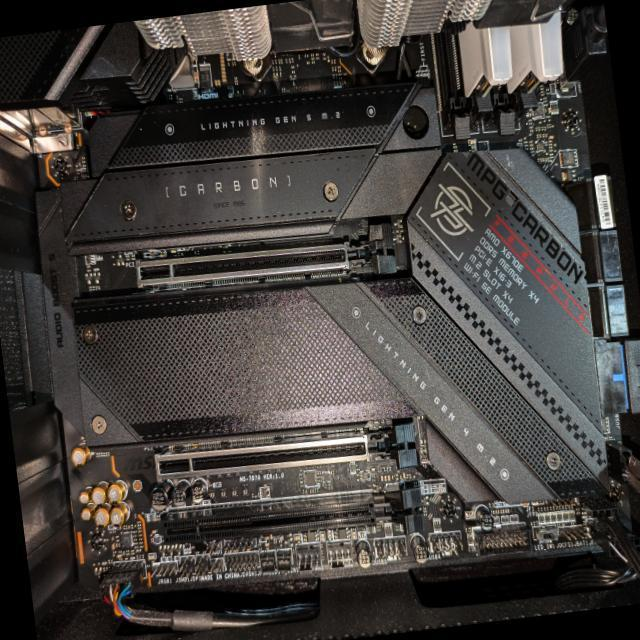Mainboard: (21, 52, 640, 618)
